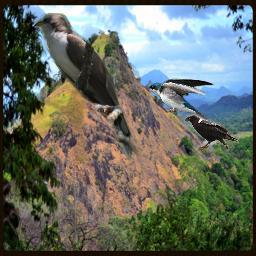Crow: (184, 114, 239, 152)
Cuckoo: (32, 13, 144, 161)
Swallow: (146, 78, 214, 120)
